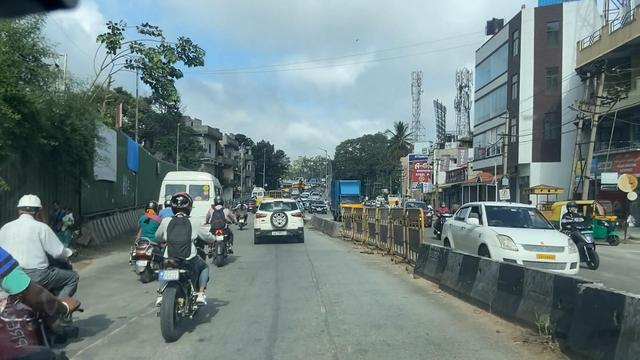LMV: (145, 195, 204, 338), (255, 200, 306, 244), (210, 197, 233, 269)
UnsurfacedRoad: (301, 247, 340, 358), (79, 312, 148, 353)
